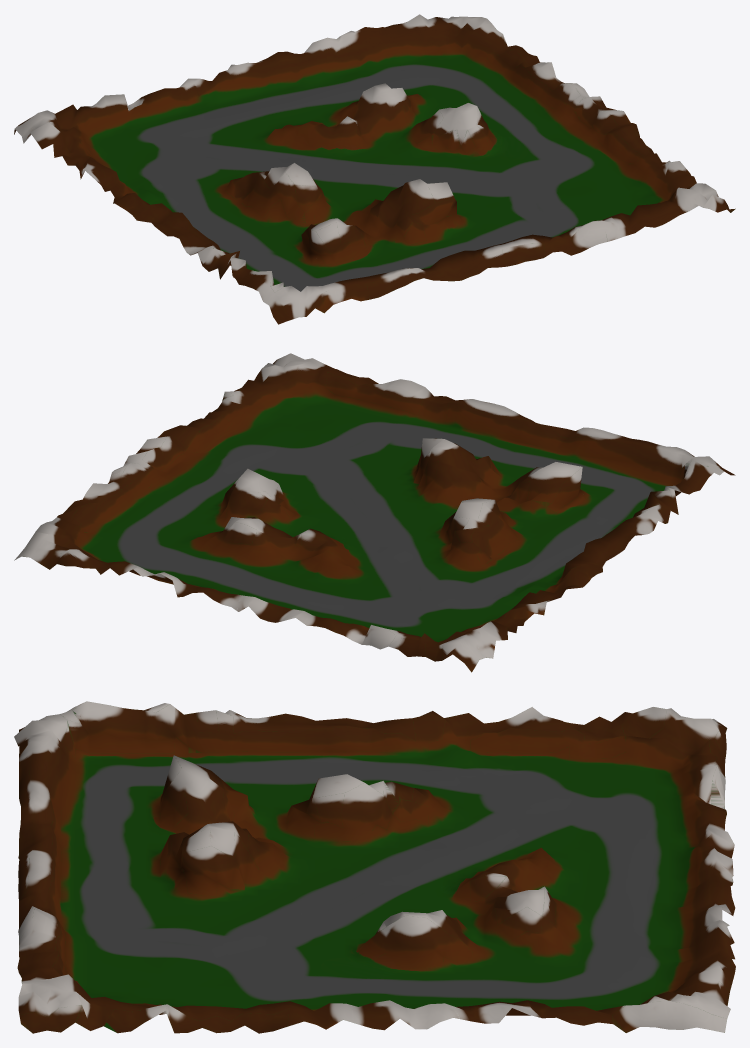
Rendered from Terrain_fourth_try.fbx.
3 views of the same model, one above another, from view 1: azimuth 30°, elevation 25°; view 2: azimuth 150°, elevation 25°; view 3: azimuth 270°, elevation 25° (orthographic). The views are drawn at different scales.
Visible parts, largest first — view 1: pPlane2; view 2: pPlane2; view 3: pPlane2.
Boxes of the visible parts, box(x1,y1,x2,y2) form: pPlane2: box(14, 14, 735, 324); pPlane2: box(14, 353, 735, 672); pPlane2: box(14, 701, 735, 1033).
Bounding box in the file's own units: 5203 × 407 × 5113.
Materials: 1 (1 with a texture image).
